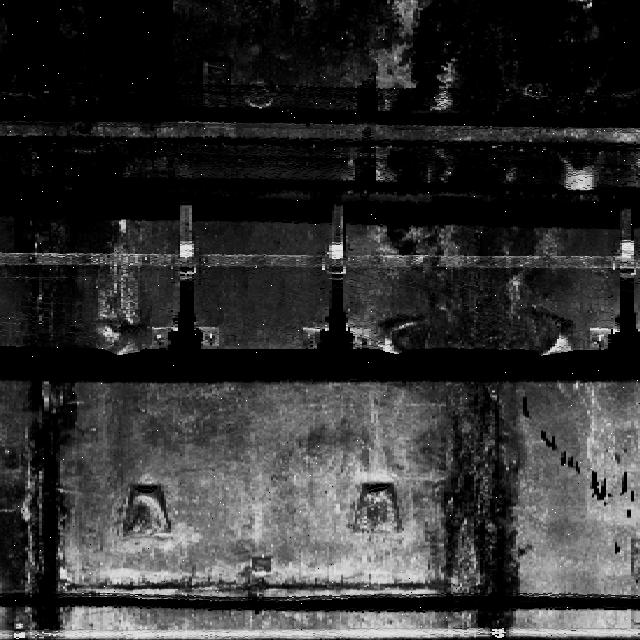leakage: (1, 3, 176, 351), (366, 5, 633, 186), (398, 377, 551, 637), (378, 224, 584, 353), (1, 382, 80, 639)
